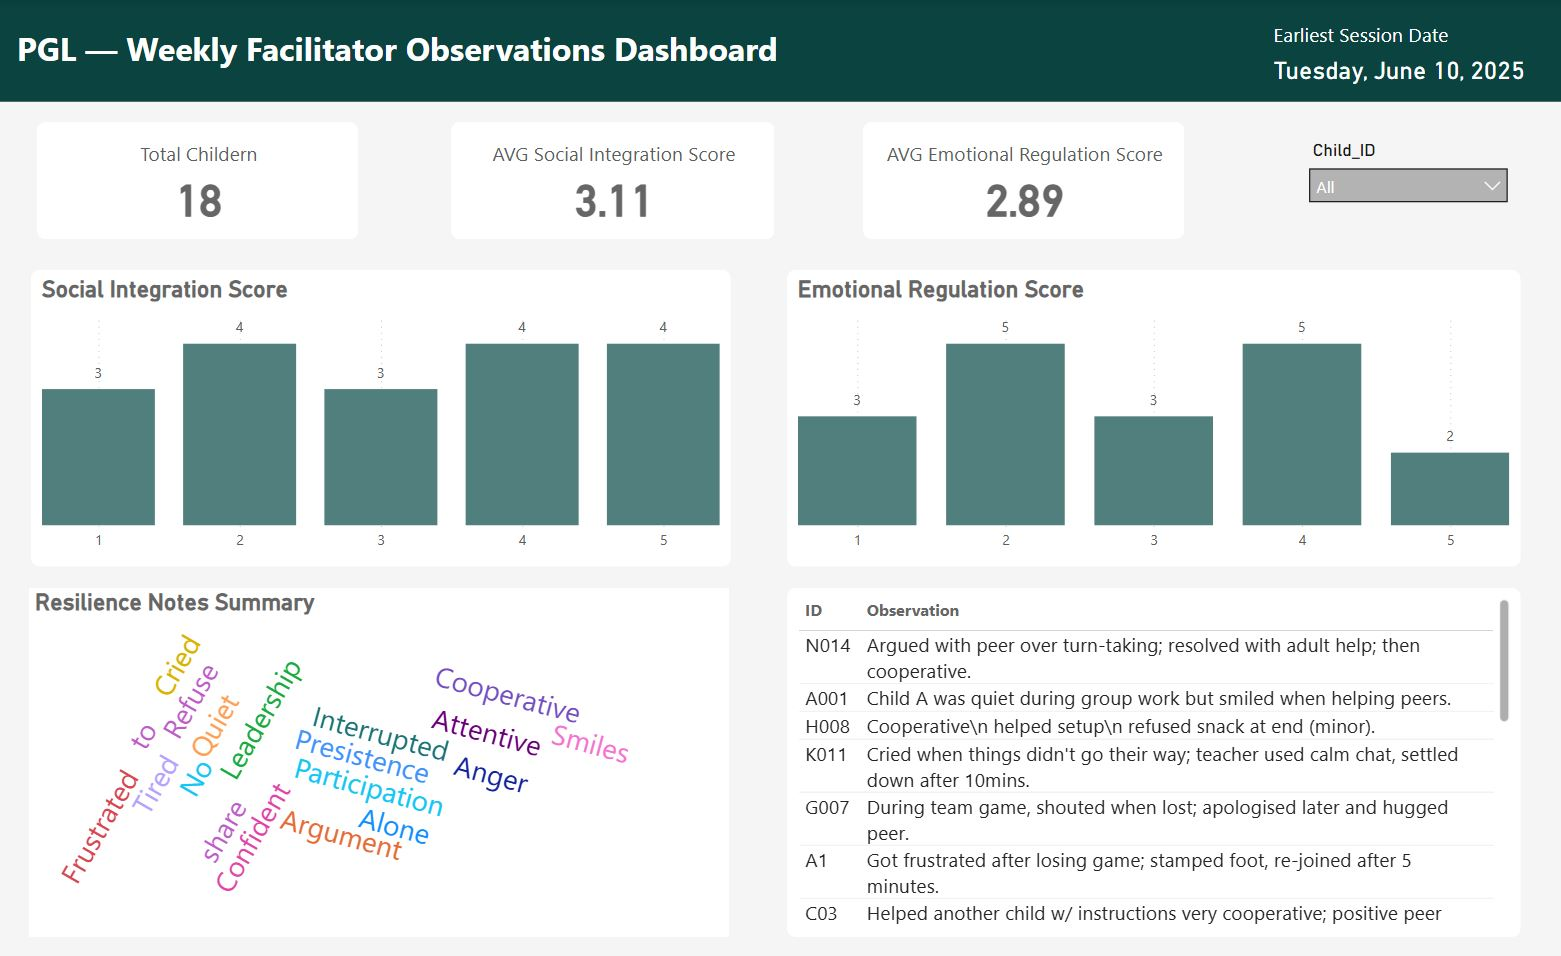

The page's visual inventory and layout, read from the dashboard file:
{"tool":"powerbi","page":{"name":"Child Growth Dossier: Session Insights","canvas":[1300,800],"ordinal":0},"visuals":[{"type":"columnChart","title":"Social Integration Score","fields":{"Category":["cleaned_observations_enhanced.Social_Integration_Score"],"Y":["CountNonNull(cleaned_observations_enhanced.Child_ID)"]},"box":[29.6,224.5,579.5,245.4],"z":0},{"type":"columnChart","title":"Emotional Regulation Score","fields":{"Y":["CountNonNull(cleaned_observations_enhanced.Child_ID)"],"Category":["cleaned_observations_enhanced.Emotional_Regulation_Score"]},"box":[656.1,224.5,607.4,245.4],"z":1000},{"type":"WordCloud1447959067750","title":"Resilience Notes Summary","fields":{"Category":["cleaned_observations_enhanced.Resilience_Notes_Summary"]},"box":[27.8,489,579.5,288.9],"z":2000},{"type":"shape","box":[0,0,1280,85.7],"z":3000},{"type":"textbox","box":[13.7,18.8,738.5,54.8],"z":4000},{"type":"slicer","fields":{"Values":["cleaned_observations_enhanced.Child_ID"]},"box":[1079,113.1,184.5,78.3],"z":5000},{"type":"cardVisual","fields":{"Data":["CountNonNull(cleaned_observations_enhanced.Child_ID)"]},"box":[29.6,97.5,276.7,107.9],"z":6000},{"type":"cardVisual","fields":{"Data":["Avg(cleaned_observations_enhanced.Emotional_Regulation_Score)"]},"box":[713.5,97.5,276.7,107.9],"z":7000},{"type":"cardVisual","fields":{"Data":["Avg(cleaned_observations_enhanced.Social_Integration_Score)"]},"box":[372.4,97.5,278.4,107.9],"z":8000},{"type":"tableEx","fields":{"Values":["cleaned_observations_enhanced.Child_ID","cleaned_observations_enhanced.Observation_Text"]},"box":[656.1,489,607.4,288.9],"z":9000},{"type":"cardVisual","fields":{"Data":["Min(cleaned_observations_enhanced.Session_Date)"]},"box":[1021.6,0,259.3,85.3],"z":9001}]}

Visuals, with their boxes in screenshot pixels (x1, y1, x2, y2), scaled from the page's 1300x800 canvas onto the 1561x956 screenshot:
"Social Integration Score" columnChart: <box>36,268,731,562</box>
"Emotional Regulation Score" columnChart: <box>788,268,1517,562</box>
"Resilience Notes Summary" WordCloud1447959067750: <box>33,584,729,930</box>
shape: <box>0,0,1537,102</box>
textbox: <box>16,22,903,88</box>
slicer - cleaned_observations_enhanced.Child_ID: <box>1296,135,1517,229</box>
cardVisual - CountNonNull(cleaned_observations_enhanced.Child_ID): <box>36,117,368,245</box>
cardVisual - Avg(cleaned_observations_enhanced.Emotional_Regulation_Score): <box>857,117,1189,245</box>
cardVisual - Avg(cleaned_observations_enhanced.Social_Integration_Score): <box>447,117,781,245</box>
tableEx - cleaned_observations_enhanced.Child_ID x cleaned_observations_enhanced.Observation_Text: <box>788,584,1517,930</box>
cardVisual - Min(cleaned_observations_enhanced.Session_Date): <box>1227,0,1538,102</box>
